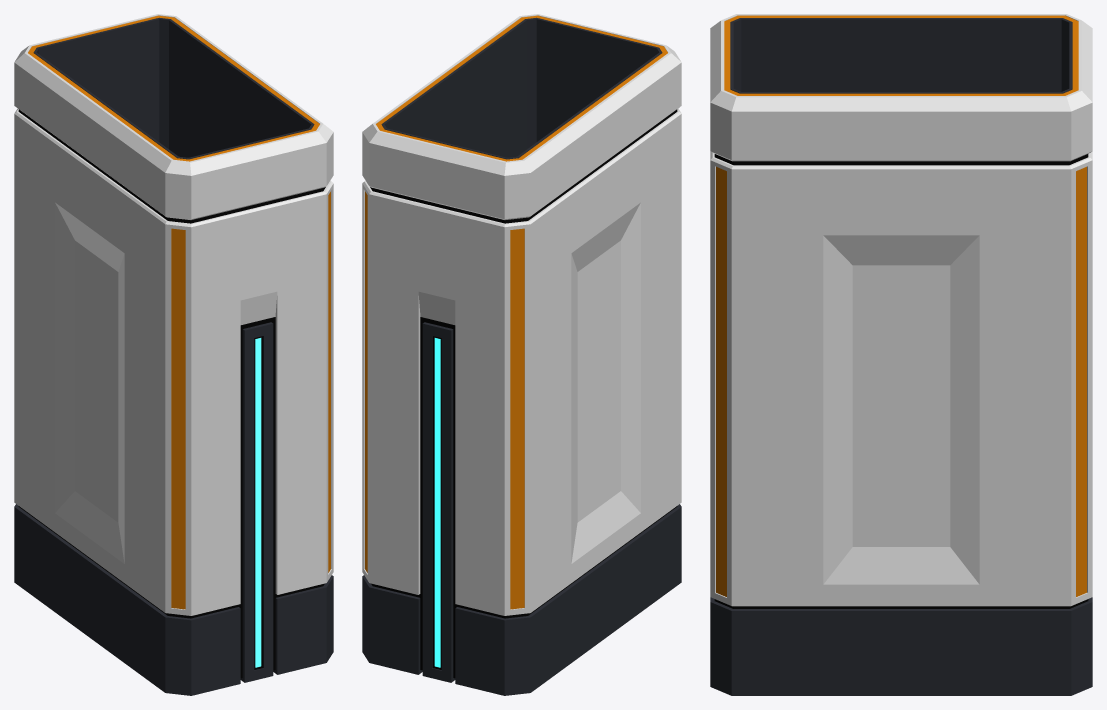
File: SM_Umbrella_Stand.fbx
The picture shows the model from 3 angles, left to right: view 1: azimuth 30°, elevation 25°; view 2: azimuth 150°, elevation 25°; view 3: azimuth 270°, elevation 25°; orthographic projection. The views are drawn at different scales.
Parts seen in each view (by area): view 1: SM_Umbrella_Stand; view 2: SM_Umbrella_Stand; view 3: SM_Umbrella_Stand.
Boxes of the visible parts, x1=… form: SM_Umbrella_Stand: x1=14, y1=14, x2=333, y2=695; SM_Umbrella_Stand: x1=362, y1=14, x2=681, y2=695; SM_Umbrella_Stand: x1=710, y1=14, x2=1092, y2=695.
Bounding box in the file's own units: 20 × 60 × 35.
